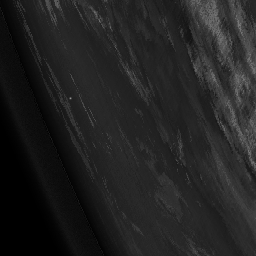Target: (68, 95, 73, 100)
